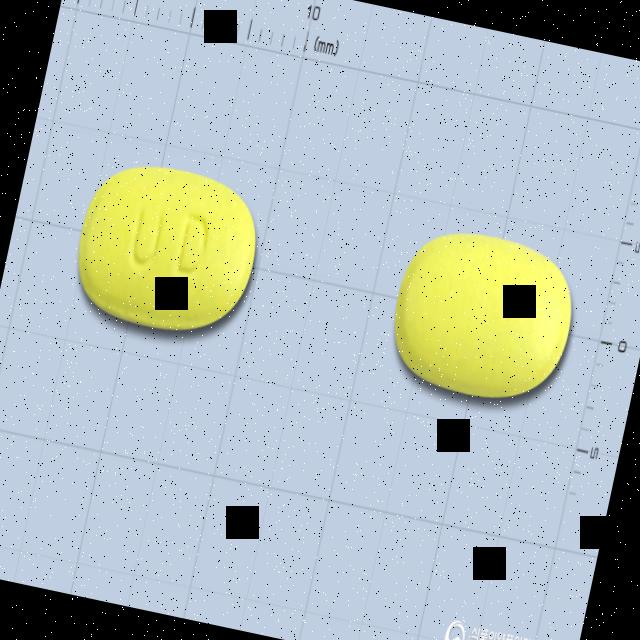Claxin - 500mg: (61, 147, 272, 350)
